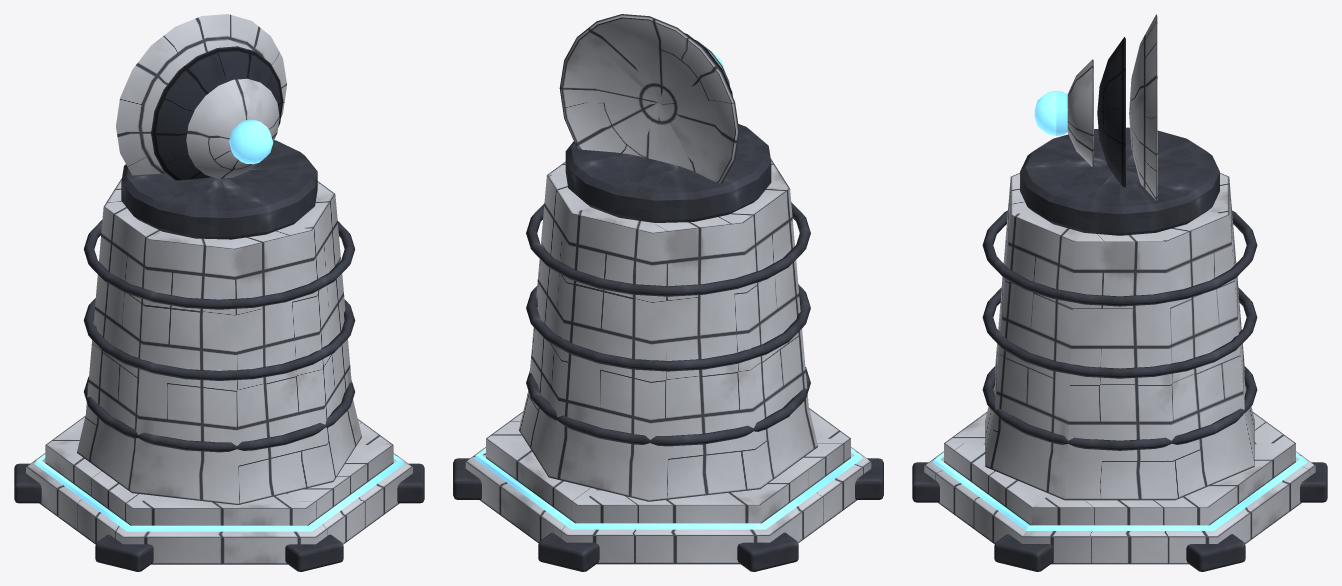
File: sf_resonator.glb
The picture shows the model from 3 angles, left to right: view 1: azimuth 30°, elevation 25°; view 2: azimuth 150°, elevation 25°; view 3: azimuth 270°, elevation 25°; orthographic projection. The views are drawn at different scales.
Parts seen in each view (by area): view 1: Base, Turret; view 2: Base, Turret; view 3: Base, Turret.
Boxes of the visible parts, bbox=[...] form: Base: bbox=[14, 178, 424, 571]; Turret: bbox=[116, 14, 317, 239]; Base: bbox=[453, 158, 883, 571]; Turret: bbox=[559, 14, 771, 222]; Base: bbox=[912, 173, 1327, 571]; Turret: bbox=[1020, 14, 1219, 235].
Size of the model in its own units: 0.8425 by 1.14 by 0.9128.
Materials: 4 (4 with a texture image).
